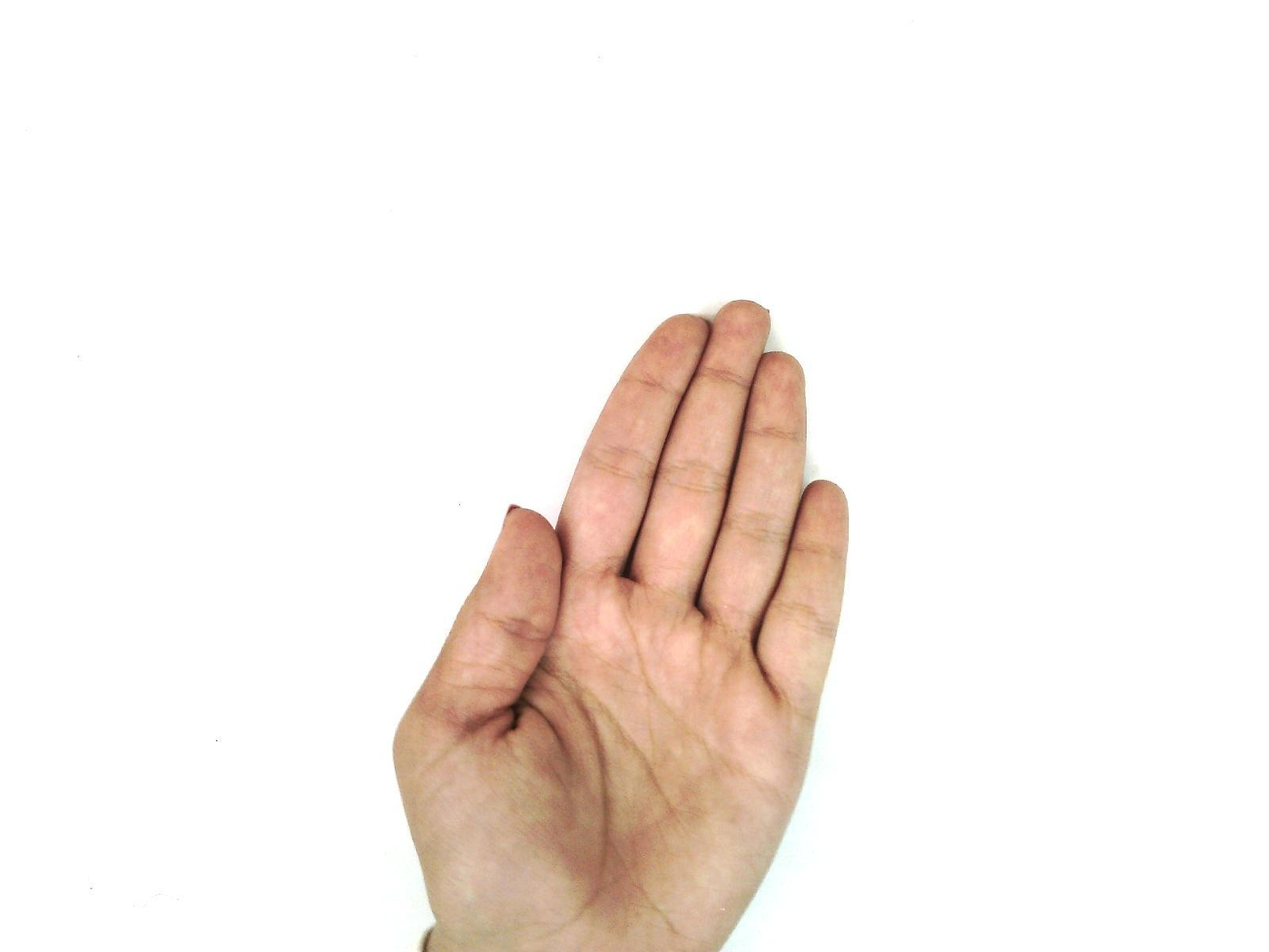open_palm: (390, 298, 853, 951)
